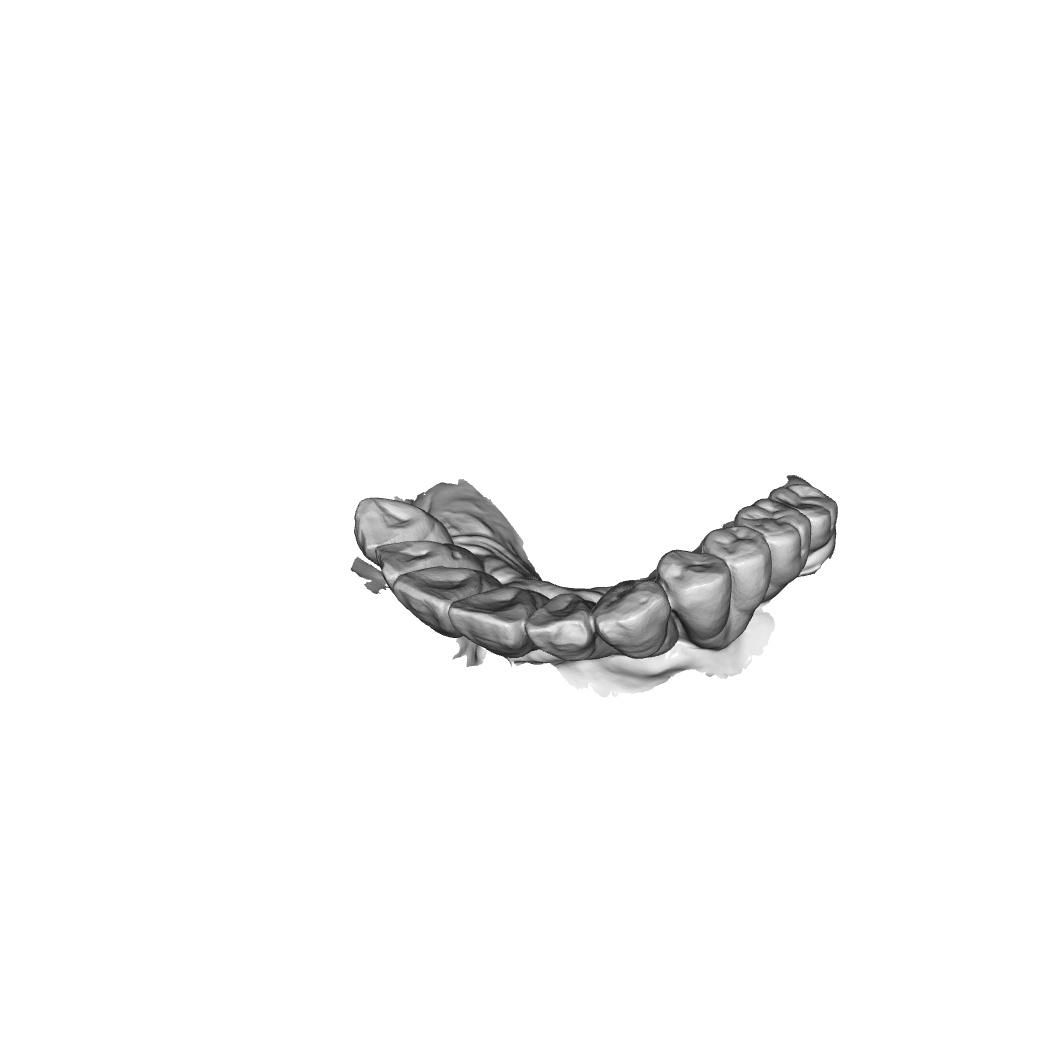canine: (591, 578, 681, 660), (353, 496, 457, 548)
incisor: (391, 566, 504, 639), (447, 584, 552, 659), (523, 593, 617, 662), (374, 539, 487, 589)
molar: (733, 497, 813, 593), (768, 482, 840, 555)
premolar: (655, 548, 734, 643), (698, 524, 774, 614)
